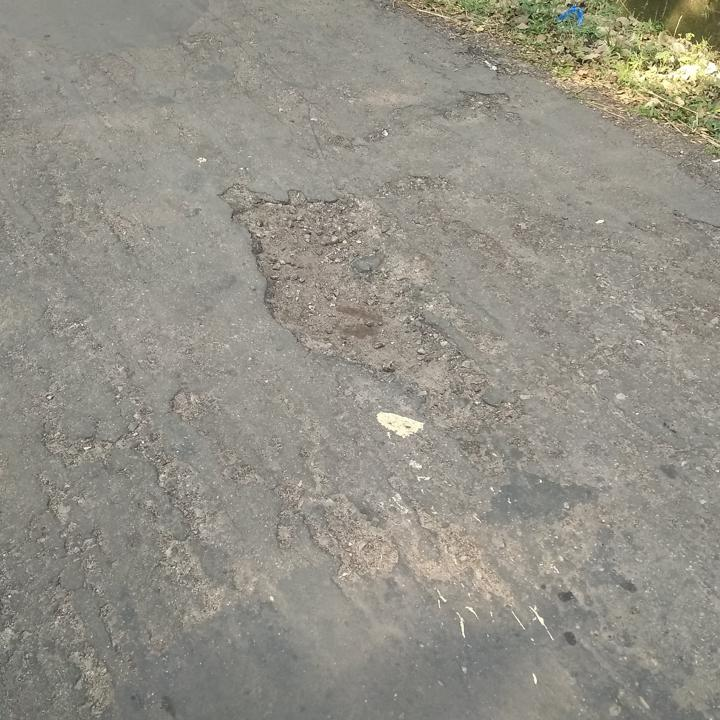pothole: (221, 182, 470, 395), (453, 85, 514, 121)
